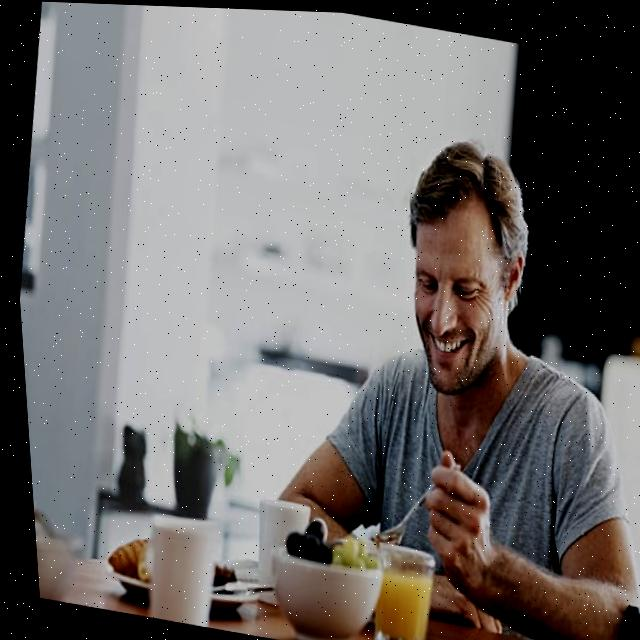eating-person: (80, 104, 640, 640)
